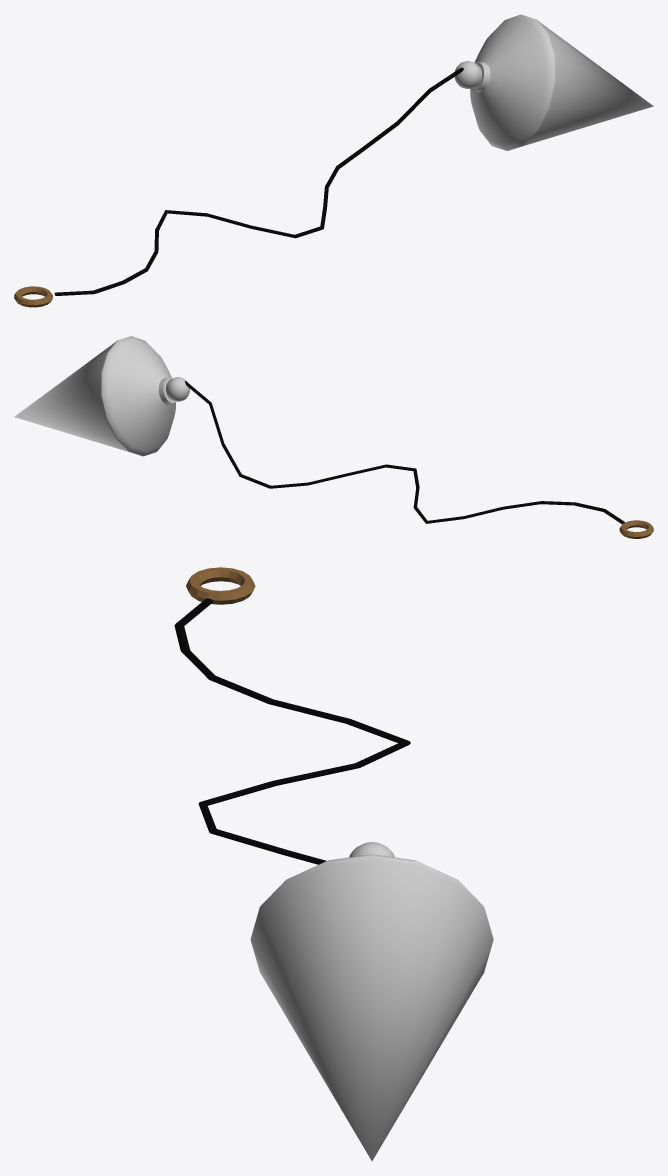
File: Plumb Line rest.fbx
3 views of the same model, one above another, from view 1: azimuth 30°, elevation 25°; view 2: azimuth 150°, elevation 25°; view 3: azimuth 270°, elevation 25° (orthographic). The views are drawn at different scales.
Parts seen in each view (by area): view 1: Plumb.001, String.001, Ring.001; view 2: Plumb.001, String.001, Ring.001; view 3: Plumb.001, String.001, Ring.001.
Boxes of the visible parts, x1,y1,x2,y2 form: Plumb.001: [454, 14, 653, 150]; String.001: [54, 67, 463, 295]; Ring.001: [14, 286, 52, 307]; Plumb.001: [14, 336, 189, 456]; String.001: [185, 381, 624, 524]; Ring.001: [619, 520, 653, 538]; Plumb.001: [250, 842, 493, 1161]; String.001: [174, 598, 410, 864]; Ring.001: [186, 567, 255, 604].
Bounding box in the file's own units: 45.22 × 7.41 × 10.42.
